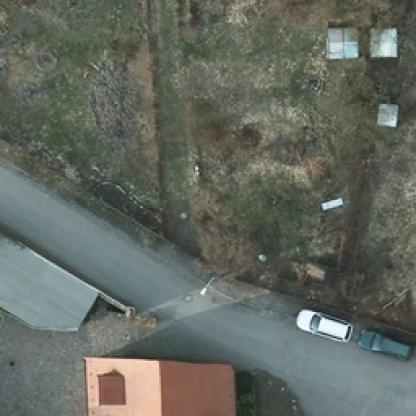car: (354, 324, 413, 358), (294, 306, 351, 341)
